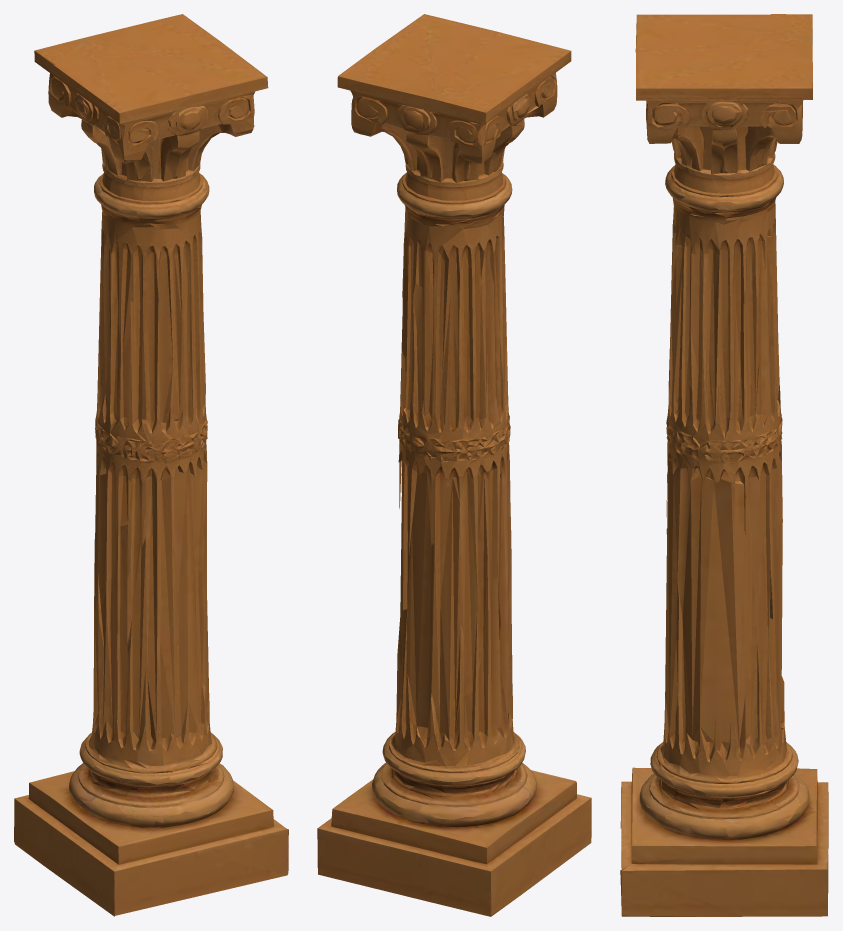
Rendered from pillar.glb.
3 renders of one model, left to right at view 1: azimuth 30°, elevation 25°; view 2: azimuth 150°, elevation 25°; view 3: azimuth 270°, elevation 25°, orthographic. The views are drawn at different scales.
Size of the model in its own units: 0.4367 by 1.9 by 0.4367.
Materials: 1 (1 with a texture image).
